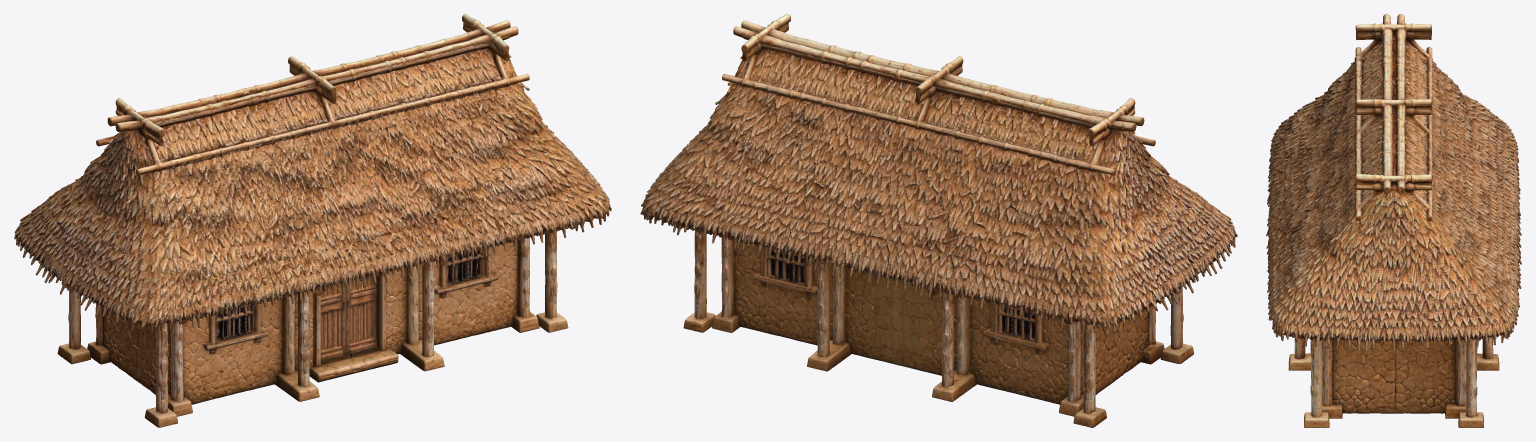
Rendered from thatched_hut_3d_model_LOD2.glb.
3 views of the same model, side by side, from view 1: azimuth 30°, elevation 25°; view 2: azimuth 150°, elevation 25°; view 3: azimuth 270°, elevation 25° (orthographic). The views are drawn at different scales.
Parts seen in each view (by area): view 1: tripo_node_89d2395d-e312-42a2-83b2-985caeab1991; view 2: tripo_node_89d2395d-e312-42a2-83b2-985caeab1991; view 3: tripo_node_89d2395d-e312-42a2-83b2-985caeab1991.
Part boxes in pixels (x1,y1,x2,y2): tripo_node_89d2395d-e312-42a2-83b2-985caeab1991: (14, 14, 611, 427); tripo_node_89d2395d-e312-42a2-83b2-985caeab1991: (640, 14, 1237, 427); tripo_node_89d2395d-e312-42a2-83b2-985caeab1991: (1266, 14, 1521, 427).
Size of the model in its own units: 0.9805 by 0.4988 by 0.4818.
1 material, 1 textured.
